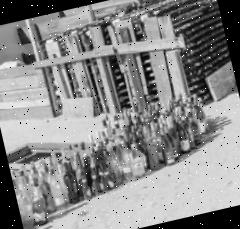glass: (1, 85, 225, 229)
